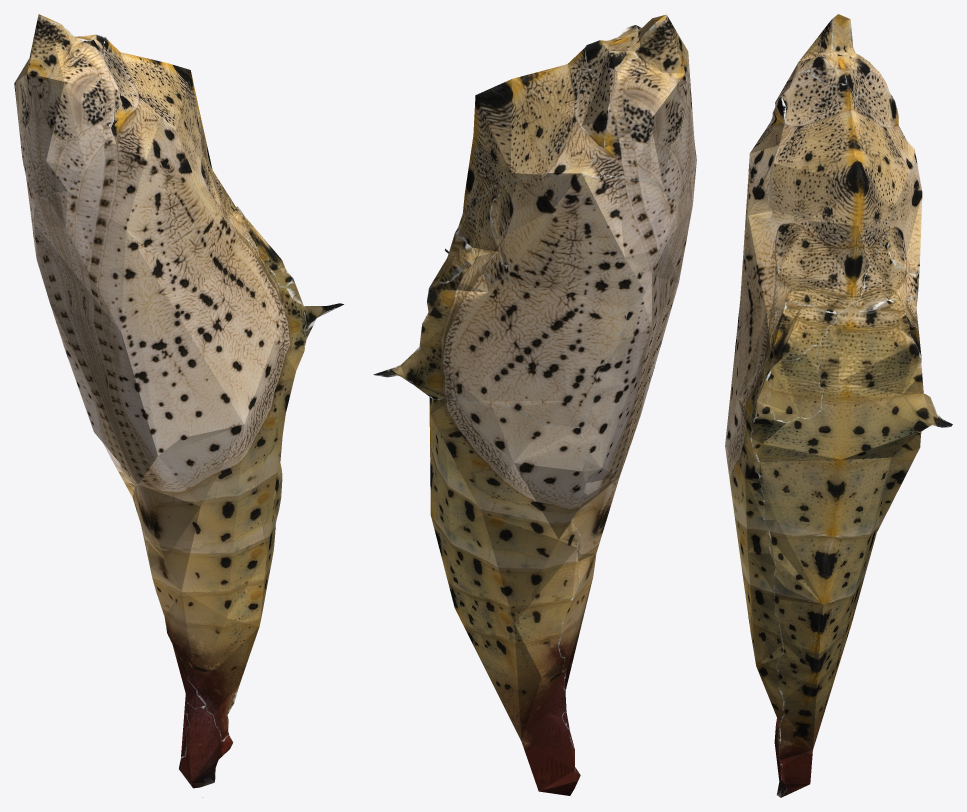
File: Pupa.fbx
The picture shows the model from 3 angles, left to right: view 1: azimuth 30°, elevation 25°; view 2: azimuth 150°, elevation 25°; view 3: azimuth 270°, elevation 25°; orthographic projection. The views are drawn at different scales.
Visible parts, largest first — view 1: pupa; view 2: pupa; view 3: pupa.
Part boxes in pixels (x1,y1,x2,y2): pupa: [14, 14, 343, 797]; pupa: [373, 14, 696, 795]; pupa: [725, 14, 952, 797].
Size of the model in its own units: 22.84 by 63.48 by 18.03.
Materials: 1 (1 with a texture image).
